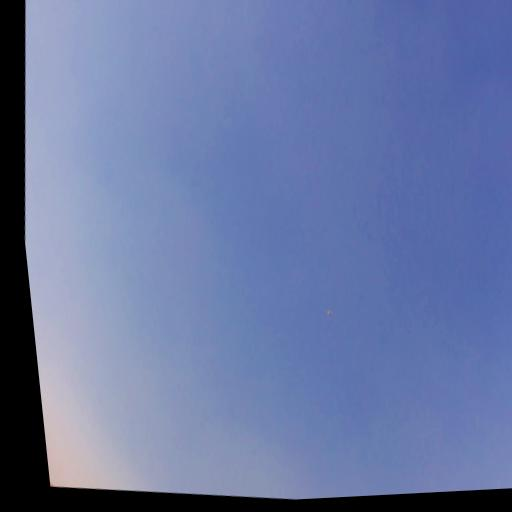drones: (324, 306, 335, 320)
